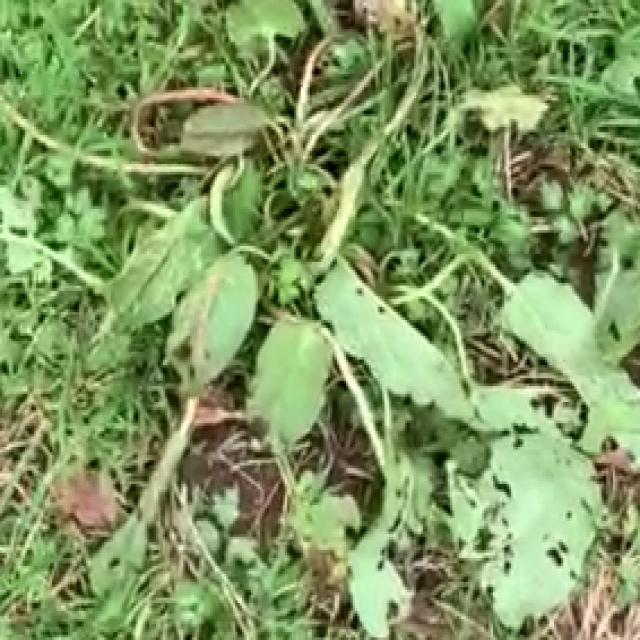organic waste: (81, 0, 638, 624)
